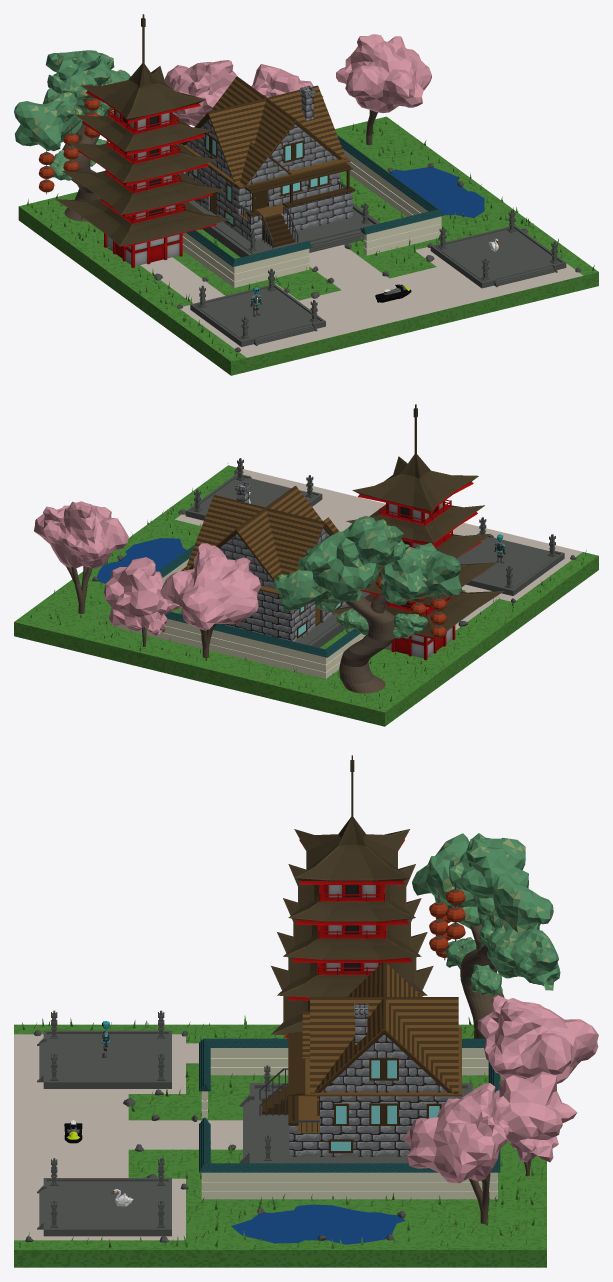
3 renders of one model, top to bottom at view 1: azimuth 30°, elevation 25°; view 2: azimuth 150°, elevation 25°; view 3: azimuth 270°, elevation 25°, orthographic. The views are drawn at different scales.
Visible parts, largest first — view 1: Cube.005, Cube.586; view 2: Cube.005, Cube.586; view 3: Cube.005, Cube.586.
Boxes of the visible parts, left/top/right/bottom form: Cube.005: left=14, top=14, right=598, bottom=375; Cube.586: left=179, top=76, right=355, bottom=248; Cube.005: left=14, top=404, right=598, bottom=726; Cube.586: left=181, top=481, right=347, bottom=641; Cube.005: left=14, top=755, right=598, bottom=1267; Cube.586: left=259, top=961, right=461, bottom=1156.
Bounding box in the file's own units: 4528 × 2713 × 4389.
34 materials, 7 textured.
